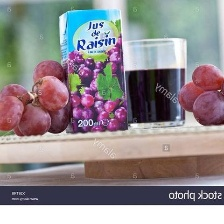carton: (56, 6, 131, 136), (121, 34, 190, 130)
